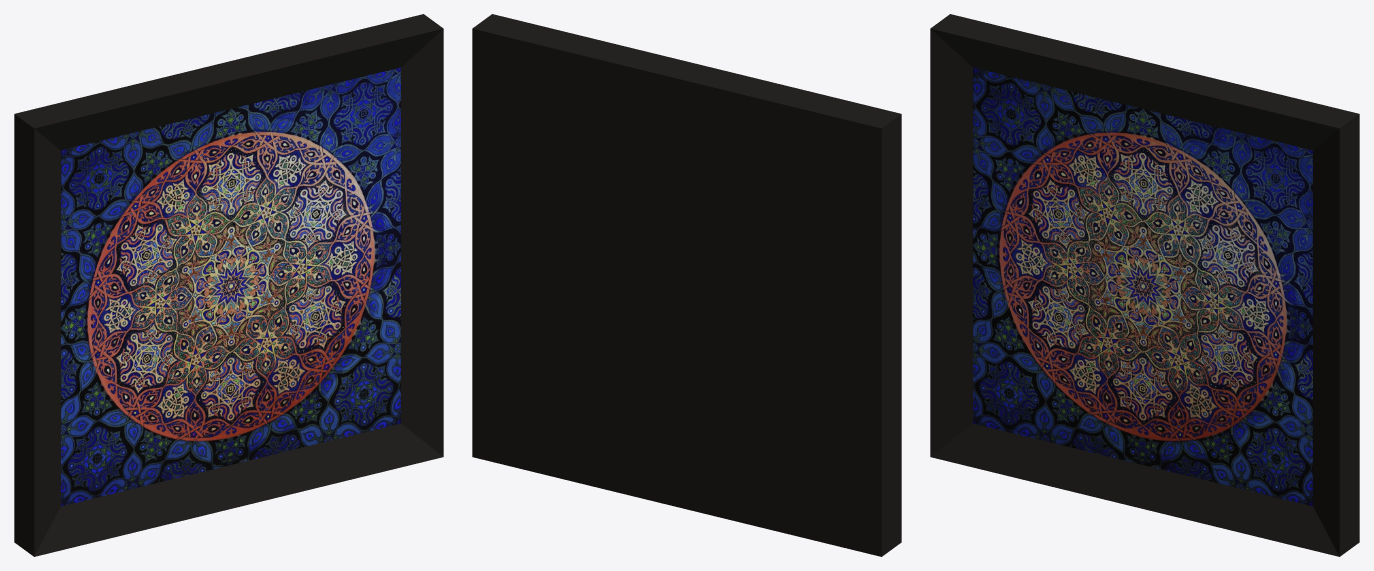
The model's file is peacock-minerva-peacock-persian-indigo-a3-stained-black-v2.glb.
3 views of the same model, side by side, from view 1: azimuth 30°, elevation 25°; view 2: azimuth 150°, elevation 25°; view 3: azimuth 330°, elevation 25° (orthographic).
Visible parts, largest first — view 1: FramedPrint; view 2: FramedPrint; view 3: FramedPrint.
Part boxes in pixels (<box>): FramedPrint: <box>14,14,443,556</box>; FramedPrint: <box>472,14,901,556</box>; FramedPrint: <box>930,14,1359,556</box>.
Size of the model in its own units: 0.355 by 0.355 by 0.03.
2 materials, 1 textured.
